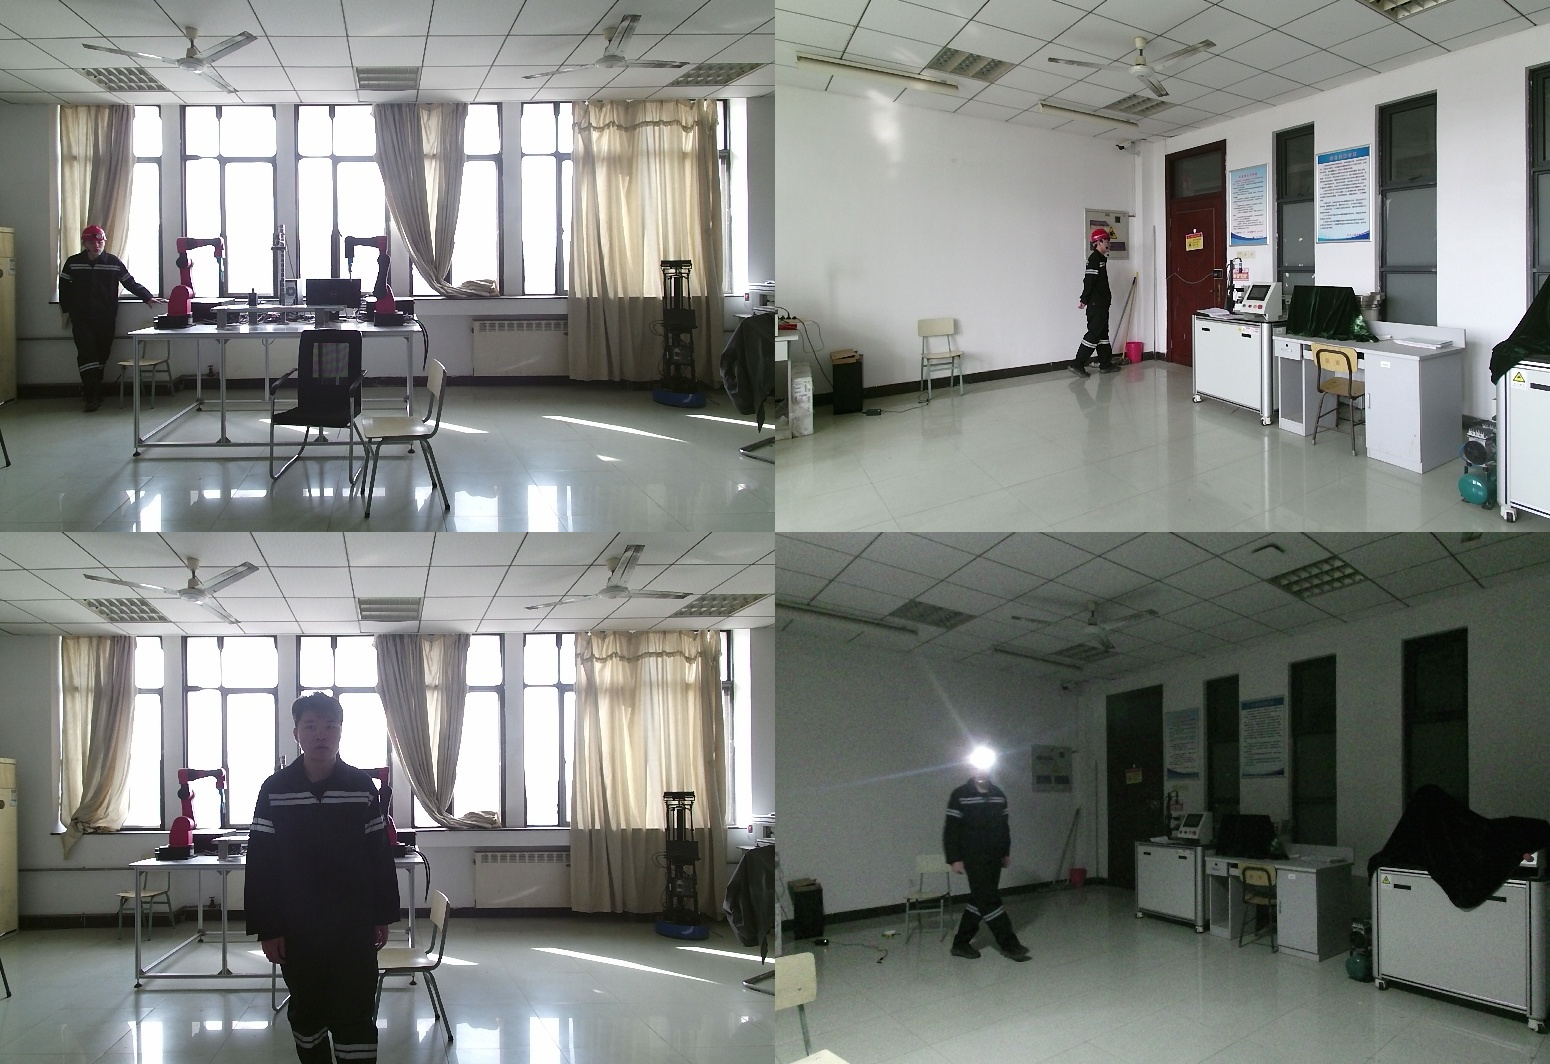person: (251, 697, 404, 1064), (932, 749, 1023, 979), (55, 226, 159, 411), (1071, 231, 1116, 382)
